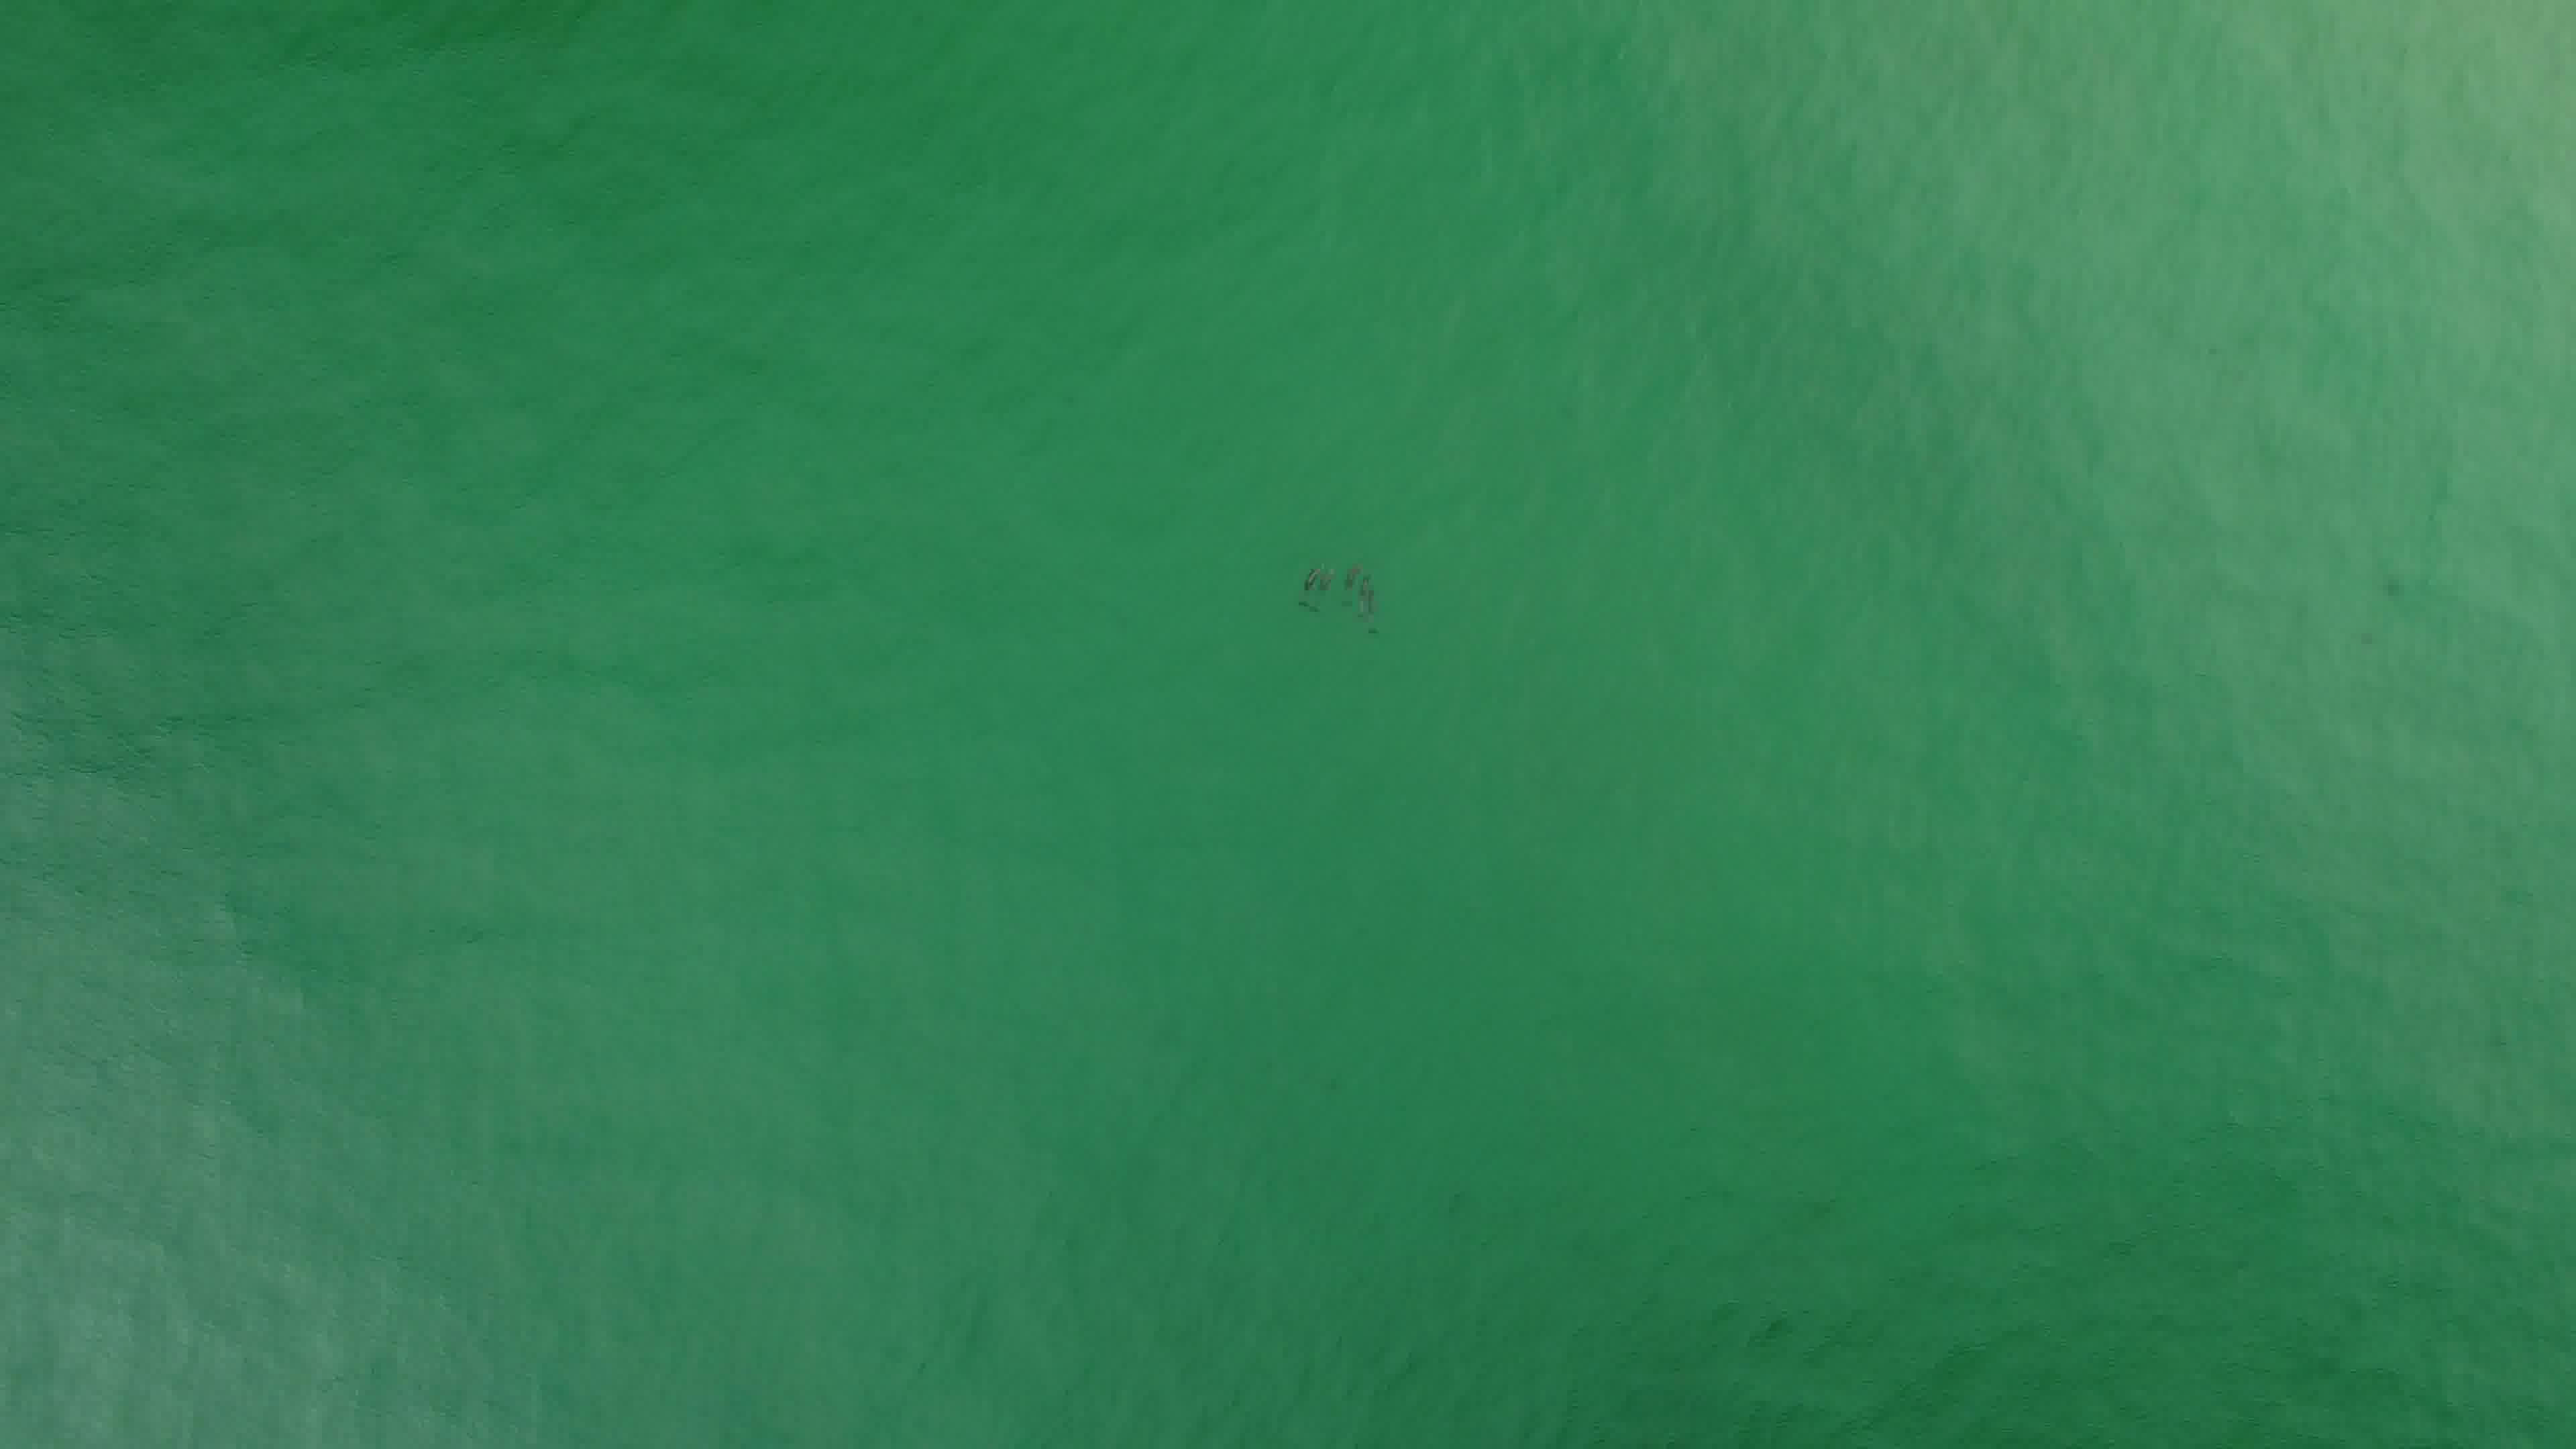dolphin: (1293, 554, 1334, 625), (1343, 563, 1384, 625)
